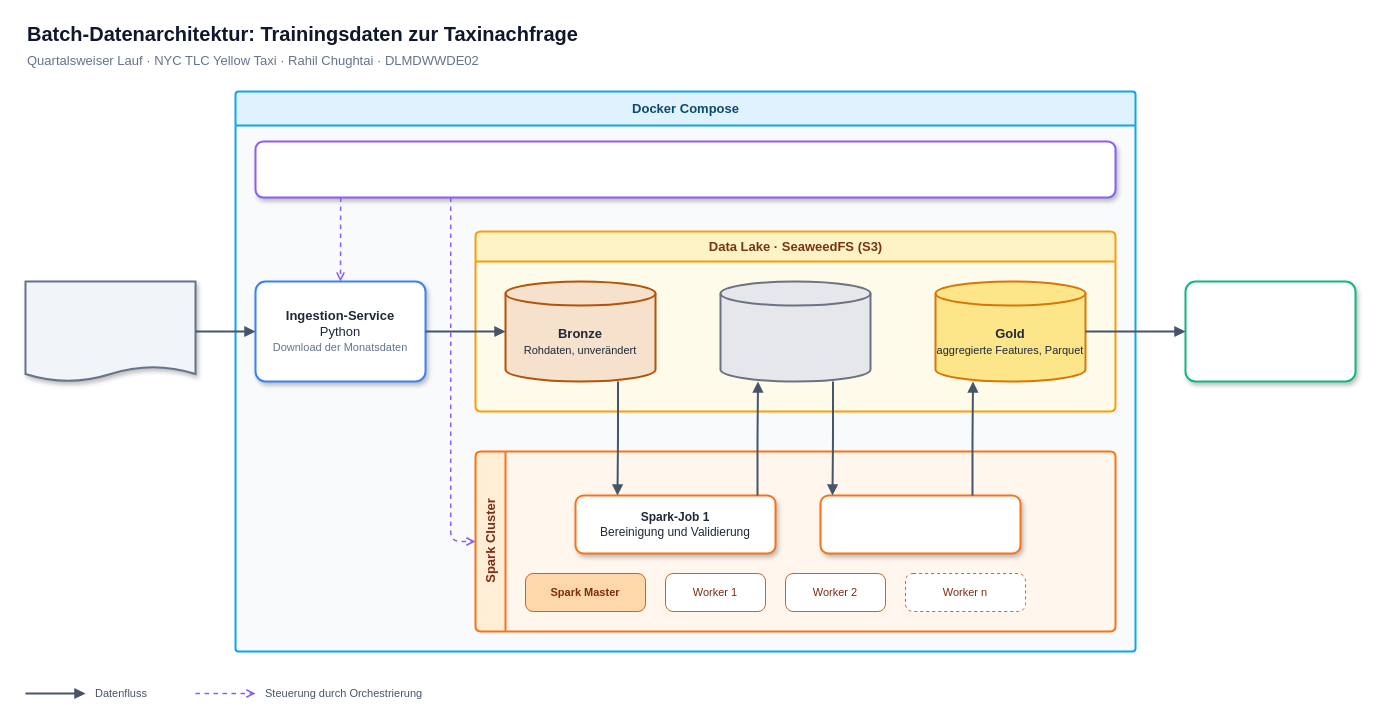
Some shapes in this 1379 by 722 pixel diagram are drawn without their labels. Each missing label, with the centre of its shape:
ML-Anwendung Modell zur Taxinachfrage liest Gold-Parquet 1× pro Quartal: (1271,332)
NYC TLC Yellow Taxi Trip Records monatliche Parquet-Dateien, HTTPS: (111,332)
Orchestrierung · Python-Skript startet Services nacheinander: (686,170)
Silver bereinigt und validiert: (795,331)
Spark-Job 2 Aggregation und Feature-Bildung: (921,525)
